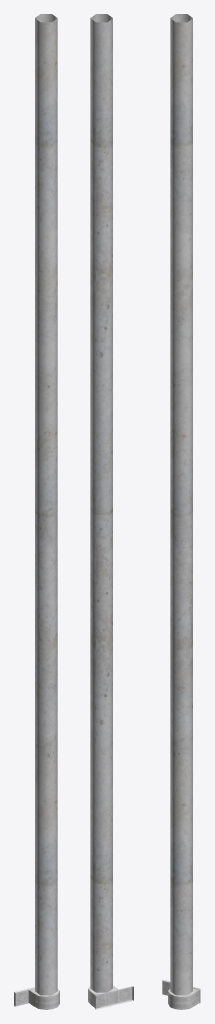
File: SM_Wires_Pipes_01qq.glb
3 views of the same model, side by side, from view 1: azimuth 30°, elevation 25°; view 2: azimuth 210°, elevation 25°; view 3: azimuth 330°, elevation 25° (orthographic).
Parts seen in each view (by area): view 1: SM_Wires_Pipes_01qq; view 2: SM_Wires_Pipes_01qq; view 3: SM_Wires_Pipes_01qq.
Part boxes in pixels (left/top/right/bottom): SM_Wires_Pipes_01qq: left=14, top=14, right=59, bottom=1009; SM_Wires_Pipes_01qq: left=88, top=14, right=133, bottom=1009; SM_Wires_Pipes_01qq: left=162, top=14, right=200, bottom=1009.
Bounding box in the file's own units: 0.0605 × 1.5 × 0.0367.
Materials: 1 (1 with a texture image).
